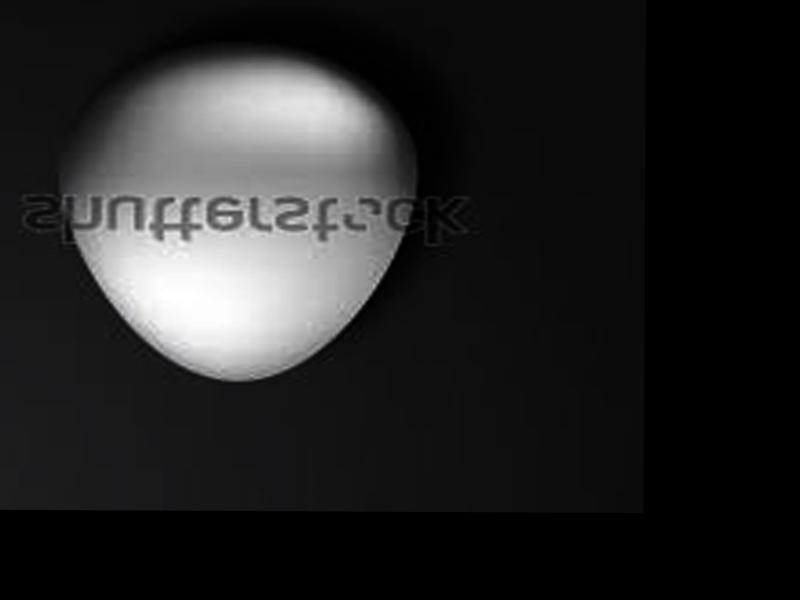Eggs: (58, 43, 418, 385)
